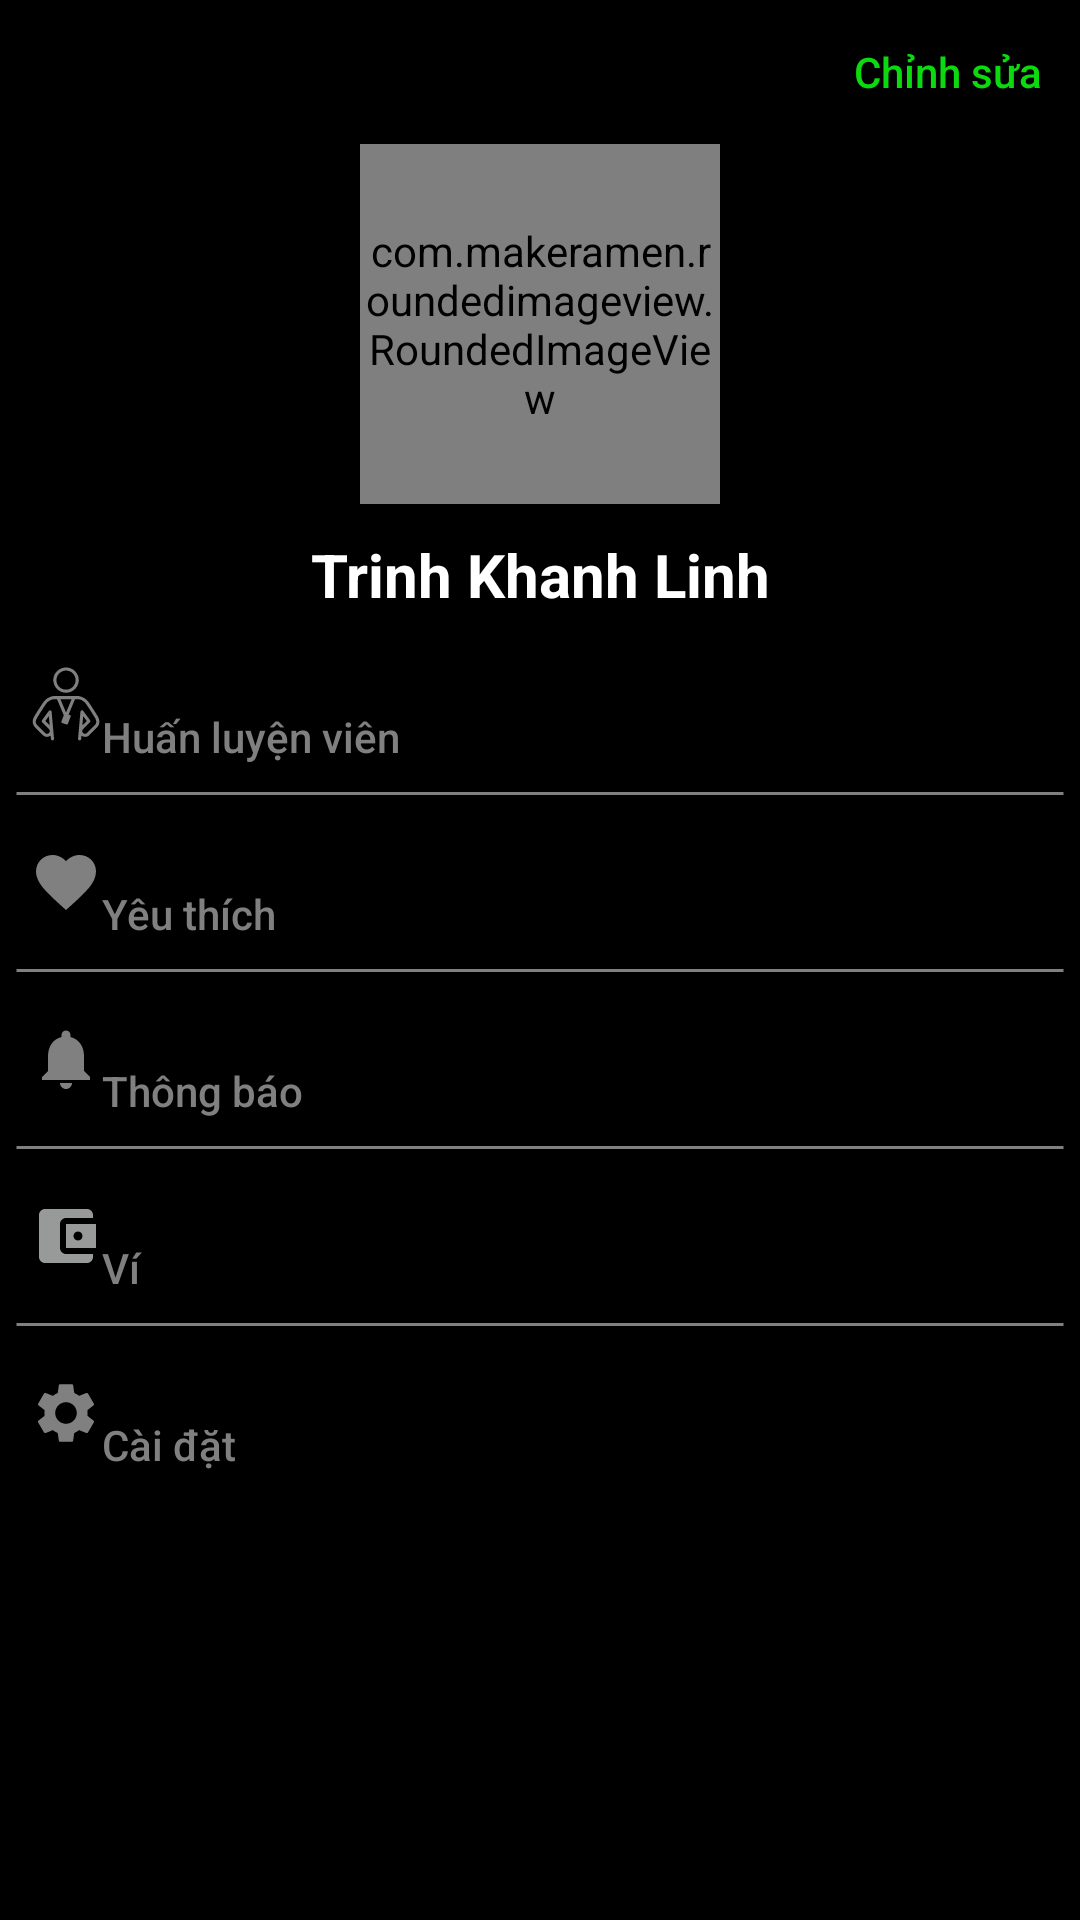

Icon bounding boxes for this 1080 × 1920 phone screenshot, format {"x1": x1, "y1": y1, "x2": x2, "y2": y2}:
account wallet: {"x1": 39, "y1": 1209, "x2": 96, "y2": 1263}
favorite: {"x1": 36, "y1": 855, "x2": 96, "y2": 910}
notifications: {"x1": 42, "y1": 1030, "x2": 90, "y2": 1089}
settings: {"x1": 38, "y1": 1384, "x2": 94, "y2": 1442}
trainer: {"x1": 32, "y1": 667, "x2": 100, "y2": 741}
